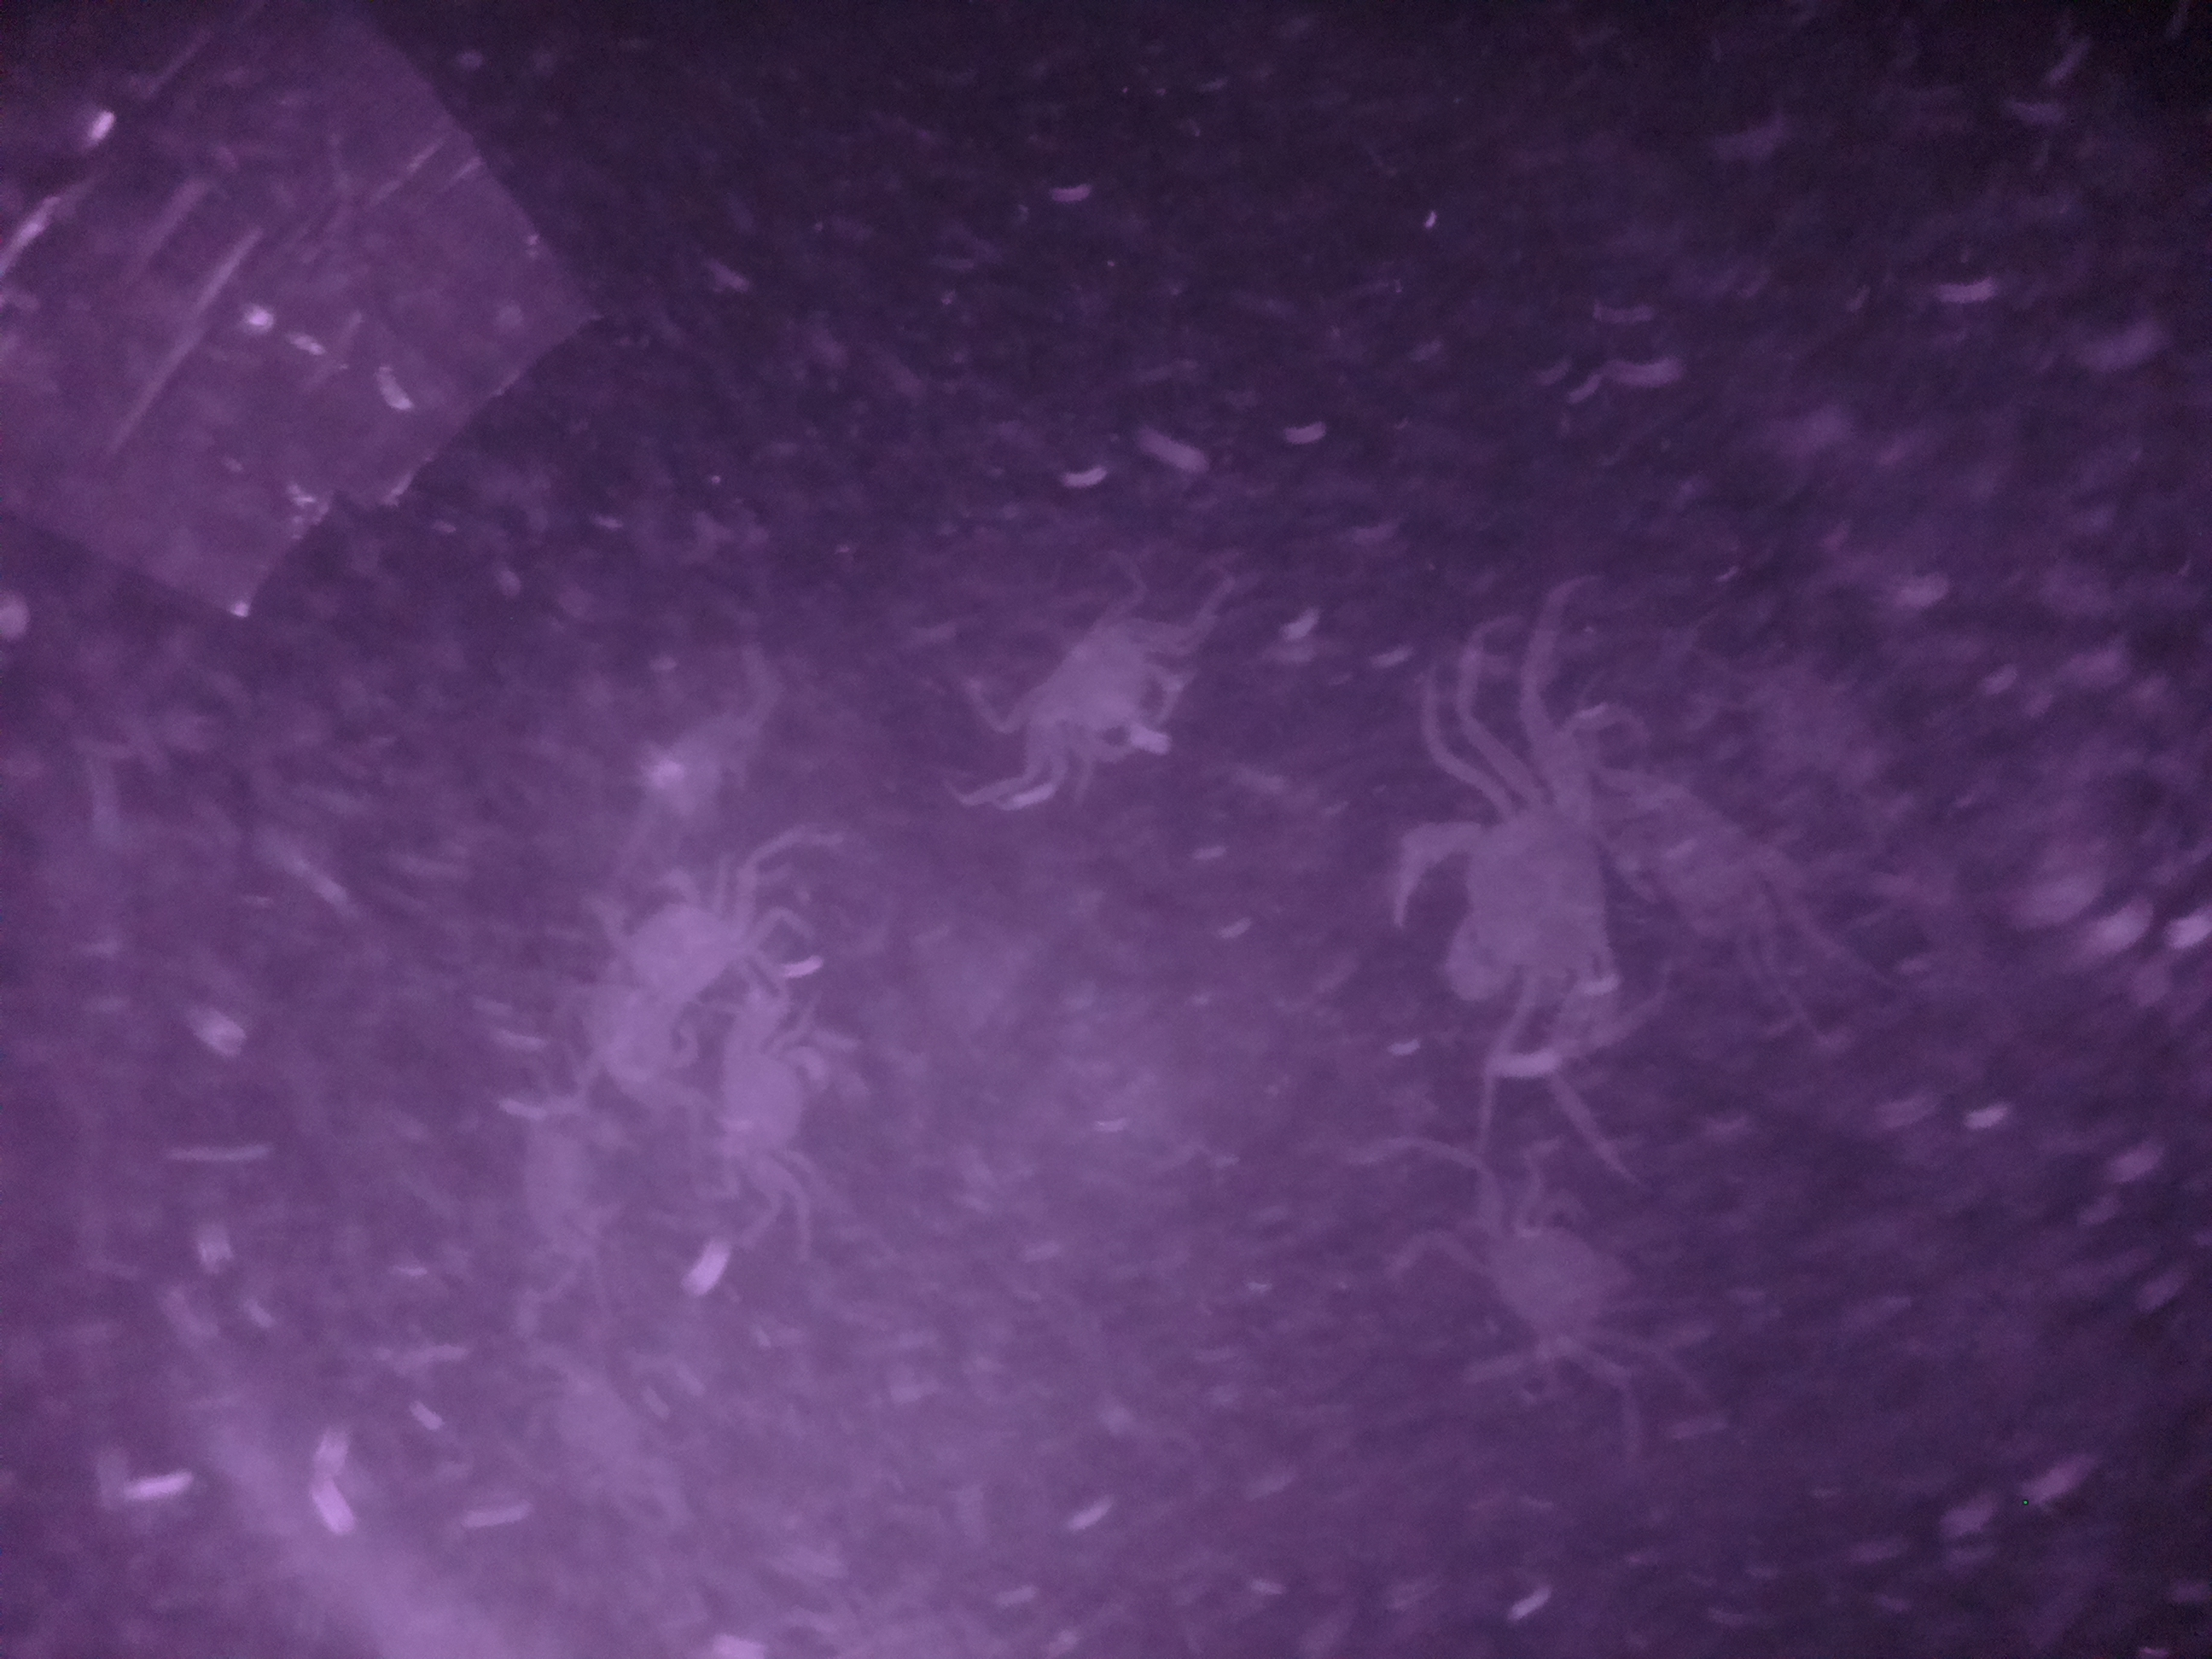Crab: (1376, 762, 1649, 1049), (986, 610, 1211, 795), (705, 988, 876, 1190)
